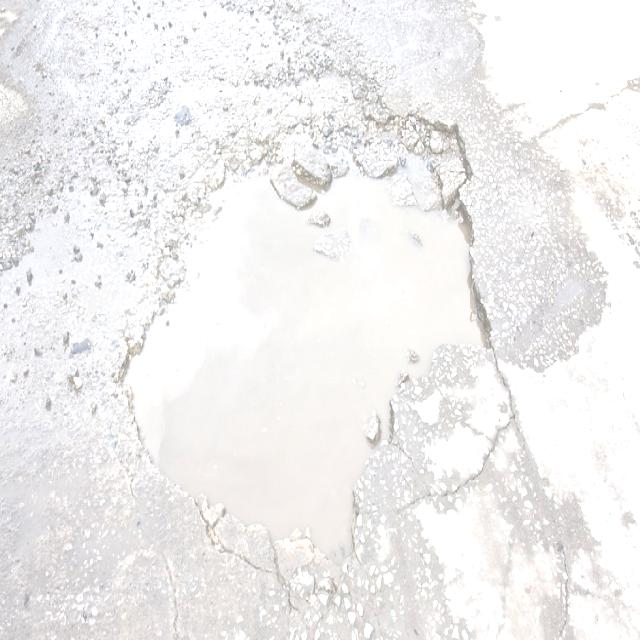Pothole: (109, 5, 524, 640)
